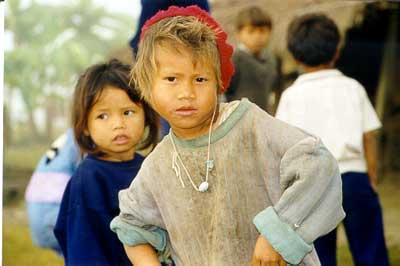human: (112, 6, 343, 266), (52, 57, 164, 266)
